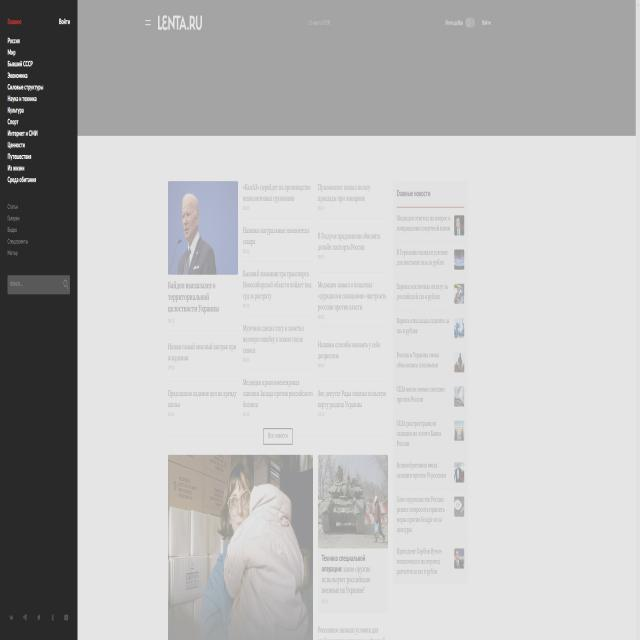menu-panel: (1, 29, 74, 303)
search: (4, 271, 72, 297)
